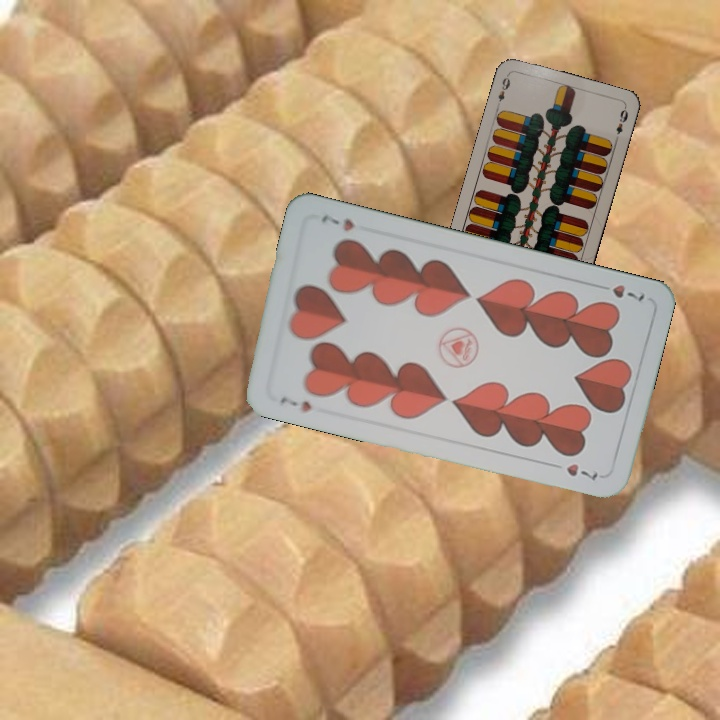E9: (493, 70, 513, 110)
H7: (591, 280, 647, 304), (276, 392, 314, 416)
